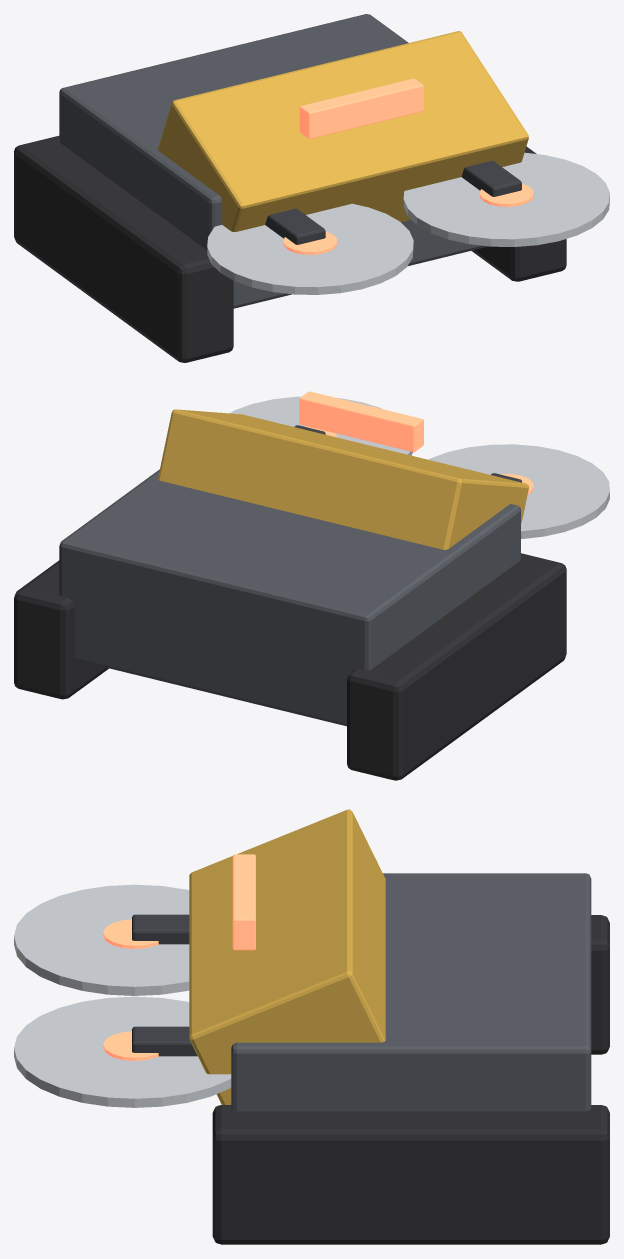
The model's file is enemy_sawblade_grinder.glb.
3 renders of one model, top to bottom at view 1: azimuth 30°, elevation 25°; view 2: azimuth 150°, elevation 25°; view 3: azimuth 270°, elevation 25°, orthographic. The views are drawn at different scales.
Parts seen in each view (by area): view 1: SlopedGlacis, TreadPod_-0.78, TankHull, SawDisc_-0.46, SawDisc_0.46, GrinderEye, TreadPod_0.78, SawArm_-0.46, SawArm_0.46, SawHub_-0.46, SawHub_0.46; view 2: TankHull, SlopedGlacis, TreadPod_-0.78, SawDisc_-0.46, TreadPod_0.78, GrinderEye, SawDisc_0.46; view 3: TankHull, TreadPod_0.78, SlopedGlacis, SawDisc_0.46, SawDisc_-0.46, TreadPod_-0.78, GrinderEye, SawArm_0.46, SawArm_-0.46, SawHub_-0.46, SawHub_0.46.
Part boxes in pixels (box(x1,y1,x2,y2)): SlopedGlacis: box(157, 31, 528, 231); TreadPod_-0.78: box(14, 136, 233, 362); TankHull: box(59, 14, 488, 308); SawDisc_-0.46: box(207, 203, 413, 294); SawDisc_0.46: box(403, 152, 609, 246); GrinderEye: box(299, 78, 423, 139); TreadPod_0.78: box(471, 146, 566, 281); SawArm_-0.46: box(265, 208, 325, 244); SawArm_0.46: box(461, 160, 521, 196); SawHub_-0.46: box(283, 231, 337, 254); SawHub_0.46: box(480, 183, 533, 206); TankHull: box(59, 469, 520, 726); SlopedGlacis: box(157, 409, 528, 549); TreadPod_-0.78: box(347, 553, 566, 780); SawDisc_-0.46: box(428, 444, 609, 538); TreadPod_0.78: box(14, 560, 108, 699); GrinderEye: box(299, 391, 423, 451); SawDisc_0.46: box(230, 396, 412, 455); TankHull: box(231, 873, 591, 1111); TreadPod_0.78: box(212, 1105, 609, 1244); SlopedGlacis: box(189, 809, 385, 1104); SawDisc_0.46: box(14, 996, 231, 1107); SawDisc_-0.46: box(14, 884, 189, 995); TreadPod_-0.78: box(591, 915, 609, 1054); GrinderEye: box(232, 854, 255, 950); SawArm_0.46: box(132, 1026, 197, 1056); SawArm_-0.46: box(132, 914, 189, 944); SawHub_-0.46: box(103, 919, 158, 948); SawHub_0.46: box(103, 1031, 158, 1060).
Size of the model in its own units: 1.82 by 0.96 by 2.07.
